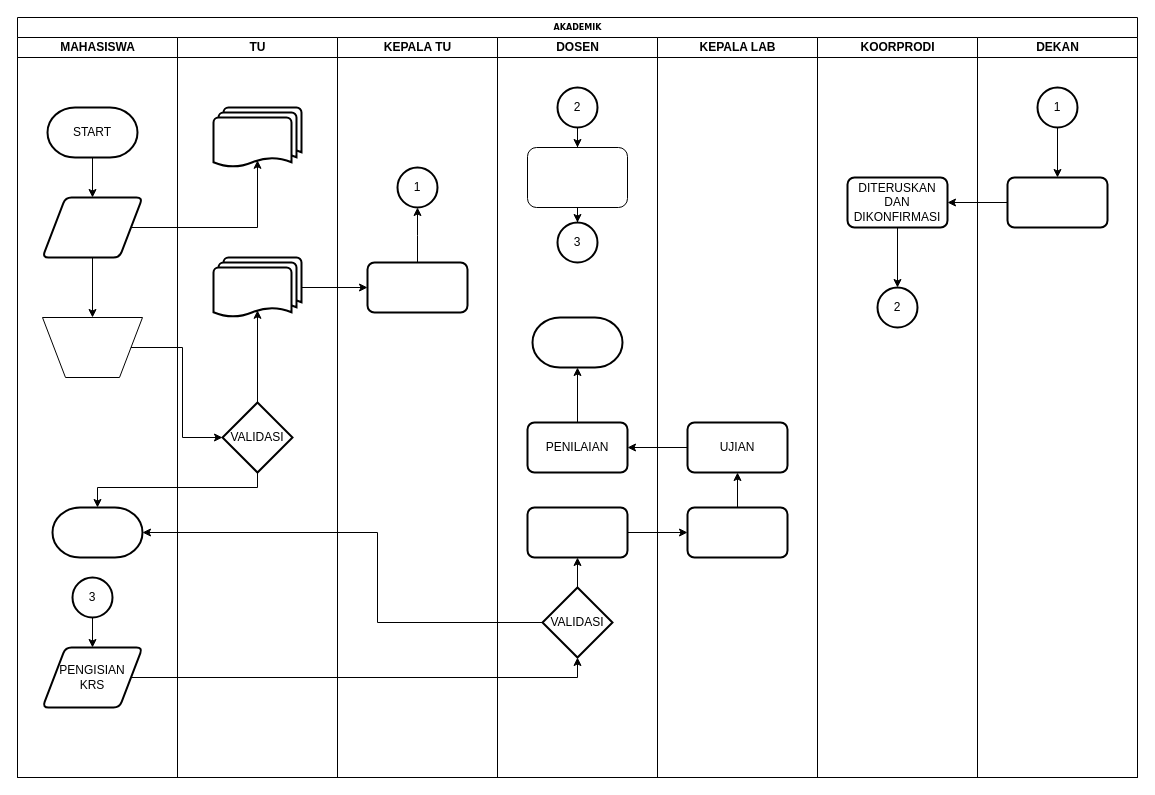
Some shapes in this 1155 by 795 pixel diagram are drawn without their labels. The centre of each missing label's shape, as x and y in pixels:
DAFTAR KULIAH VIA WEB: pixel 92 227
DATA DITERIMA OLEH DOSEN: pixel 577 177
DIKONFIRMASI OLEH DEKAN FK: pixel 1057 202
DITERUSKAN DAN DI KELOLA: pixel 417 287
FINISH: pixel 577 342
PEMBAYARAN VA: pixel 92 347
PENERIMAAN PENDATAAN: pixel 257 137
PEPMBUATAAN DATA NIK: pixel 257 287
PRAKTEK DI LAB: pixel 737 532
PROSES BELAJAR: pixel 577 532
STOP: pixel 97 532
